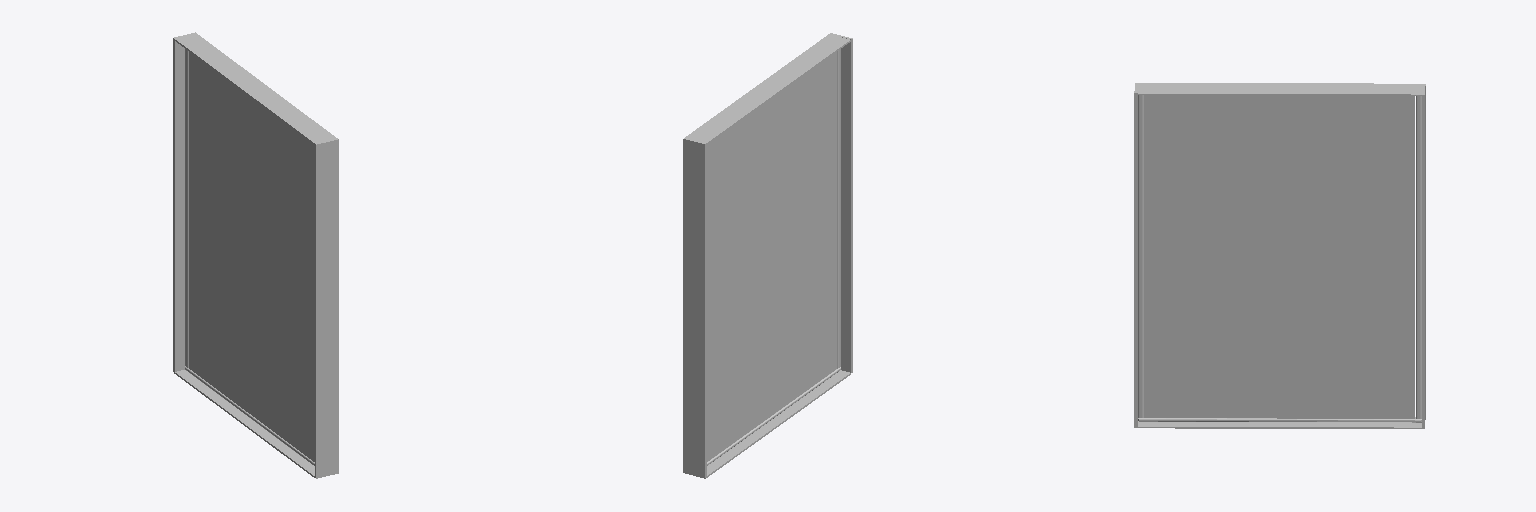
Rendered from Ventana5.obj.
3 renders of one model, left to right at view 1: azimuth 30°, elevation 25°; view 2: azimuth 150°, elevation 25°; view 3: azimuth 270°, elevation 25°, orthographic.
Visible parts, largest first — view 1: polySurface105; view 2: polySurface105; view 3: polySurface105.
Part boxes in pixels (x1,y1,x2,y2): polySurface105: (173,32,338,478); polySurface105: (683,33,852,478); polySurface105: (1134,83,1425,428).
Bounding box in the file's own units: 0.1565 × 2.05 × 1.62.